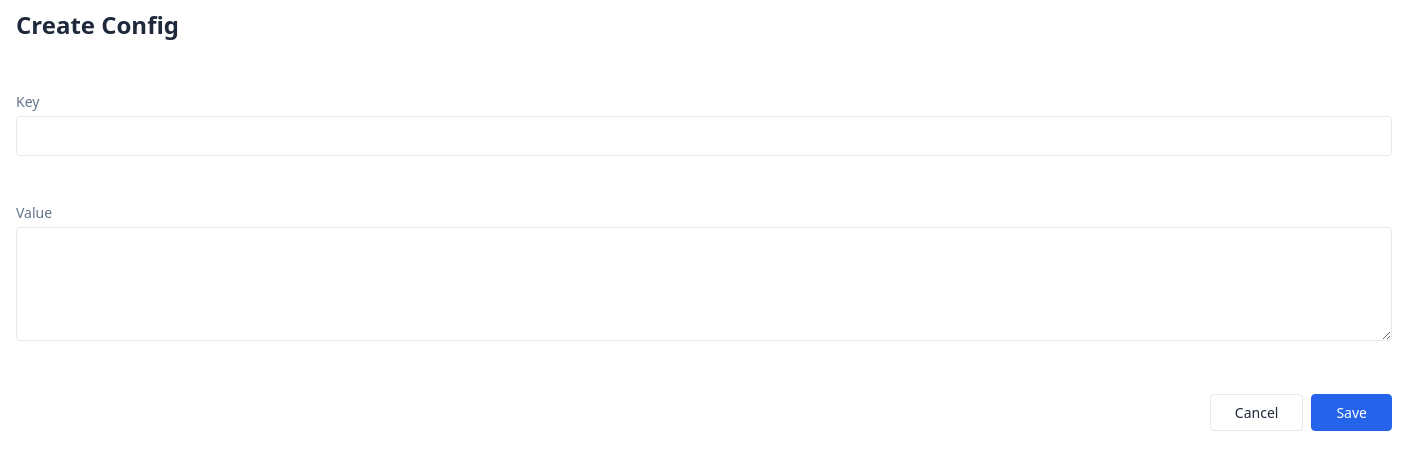
Test: ConfigForm › create mode › shows key-required error when key is empty
Click the button "Save" at (1352, 412), box [1311,394,1392,431]
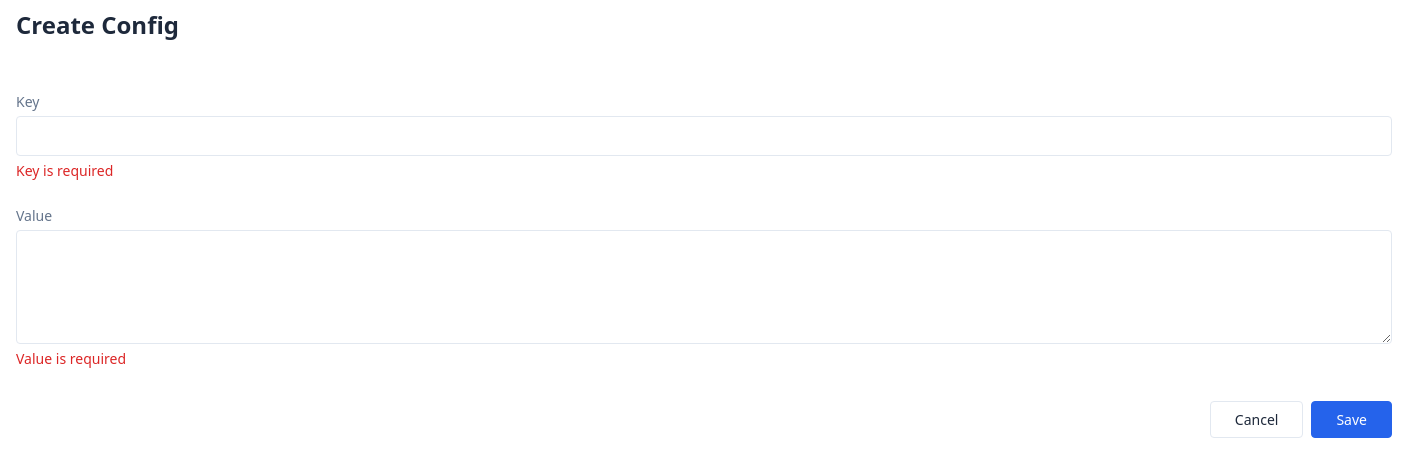
Now the text "Key is required" is shown, box [16,161,113,180]
